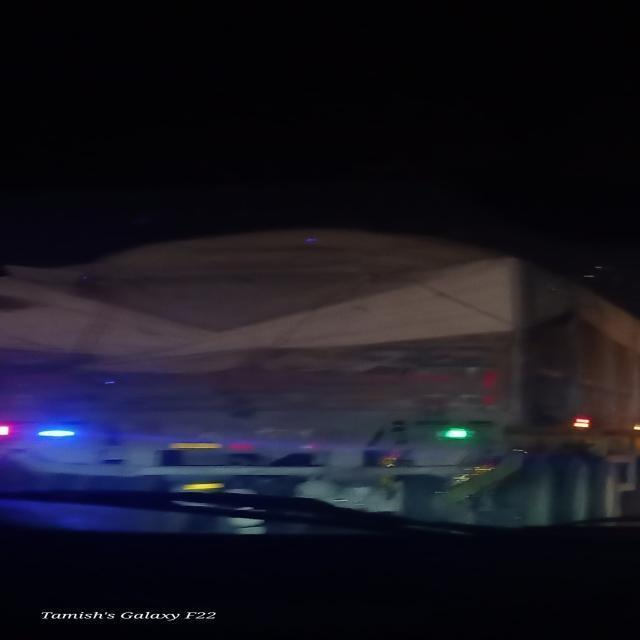covered: (11, 211, 606, 448)
